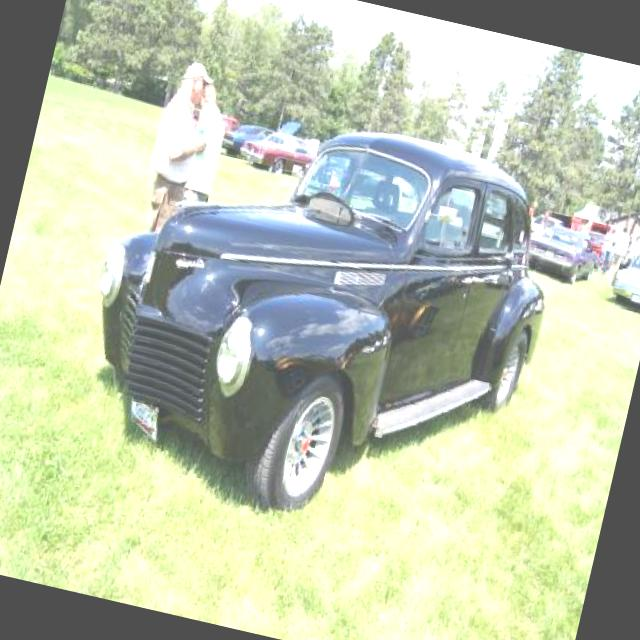Person: (128, 48, 224, 240), (176, 80, 235, 208), (594, 219, 622, 275), (608, 222, 634, 278), (575, 214, 596, 249), (536, 200, 555, 238), (622, 229, 640, 263), (526, 198, 539, 218), (635, 230, 640, 254)
